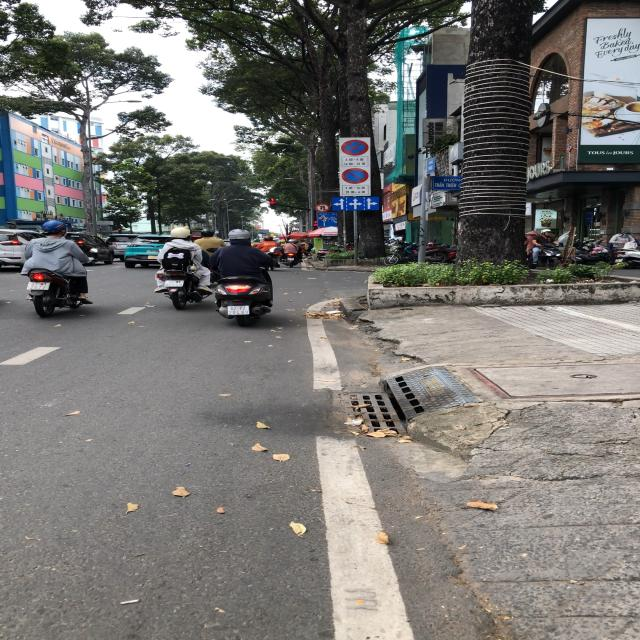Bien bao cam do xe: (338, 138, 375, 156), (341, 166, 373, 184)
Bien bao cam quay dau xe: (315, 201, 332, 214)
